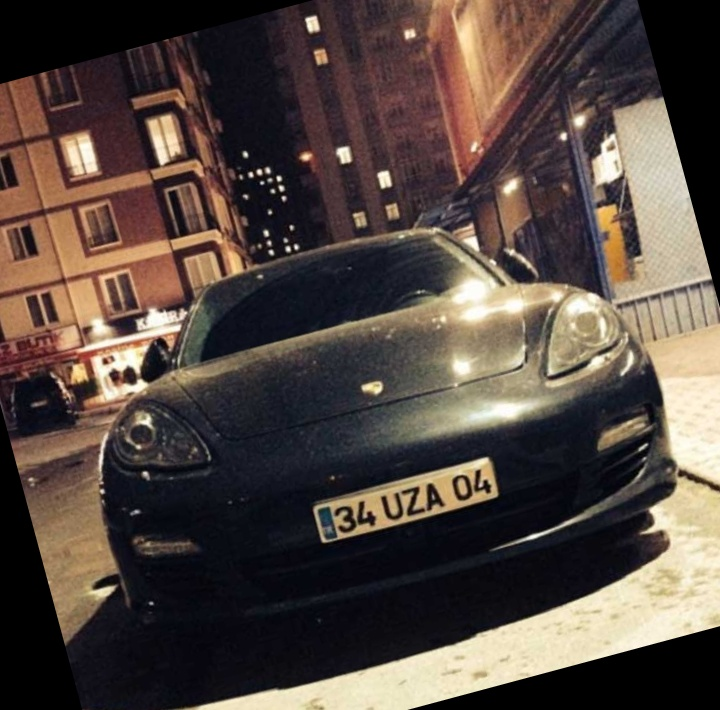plaka: (324, 464, 506, 537)
